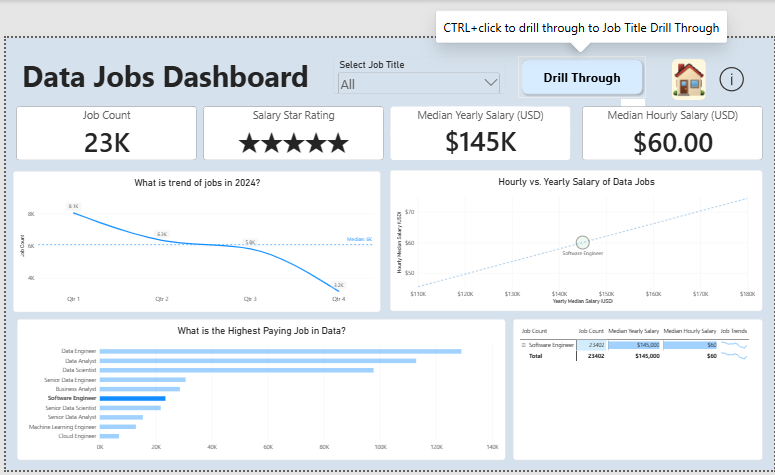

The dashboard page shown, as its layout file describes it:
{"tool":"powerbi","page":{"name":"Data Jobs Dashboard","canvas":[1920,1080],"ordinal":1},"visuals":[{"type":"cardVisual","fields":{"Data":["Median(job_postings_flat.salary_year_avg)"]},"box":[961.1,169.4,452.8,136.1],"z":0,"group":"g1"},{"type":"textbox","box":[25.6,46.1,751.1,107.7],"z":1000},{"type":"cardVisual","fields":{"Data":["Median(Job_Postings_Flat.salary_hour_avg)"]},"box":[1438.9,169.4,452.8,136.1],"z":1000,"group":"g1"},{"type":"slicer","fields":{"Values":["job_postings_flat.job_title_short"]},"box":[820.3,48.7,424.5,89.8],"z":2000},{"type":"cardVisual","fields":{"Data":["Job_Postings_Flat.Salary Star Ratio"]},"box":[491.7,169.4,452.8,136.1],"z":2000,"group":"g1"},{"type":"cardVisual","fields":{"Data":["CountNonNull(job_postings_flat.job_title_short)"]},"box":[25,169.4,452.8,136.1],"z":3000,"group":"g1"},{"type":"lineChart","title":"What is trend of jobs in 2024?","fields":{"Category":["Job_Postings_Flat.job_posted_date.Variation.Date Hierarchy.Quarter","Job_Postings_Flat.job_posted_date.Variation.Date Hierarchy.Month","Job_Postings_Flat.job_posted_date.Variation.Date Hierarchy.Day"],"Y":["CountNonNull(Job_Postings_Flat.job_title_short)"]},"box":[18.4,331.6,919.4,352.8],"z":3000},{"type":"scatterChart","title":"Hourly vs. Yearly Salary of Data Jobs","fields":{"Series":["Job_Postings_Flat.job_title_short"],"Size":["CountNonNull(Job_Postings_Flat.job_title_short)"],"X":["Median(Job_Postings_Flat.salary_year_avg)"],"Y":["Median(Job_Postings_Flat.salary_hour_avg)"]},"box":[961.1,330.6,930.6,352.8],"z":4000},{"type":"clusteredBarChart","title":"What is the Highest Paying Job in Data?","fields":{"Category":["Job_Postings_Flat.job_title_short"],"Y":["CountNonNull(Job_Postings_Flat.job_title_short)"]},"box":[26.1,702.9,1129,352.2],"z":5000},{"type":"pivotTable","fields":{"Rows":["Job_Postings_Flat.job_title_short","Job_Postings_Flat.job_posted_date.Variation.Date Hierarchy.Quarter","Job_Postings_Flat.job_posted_date.Variation.Date Hierarchy.Month","Job_Postings_Flat.job_posted_date.Variation.Date Hierarchy.Day"],"Values":["CountNonNull(Job_Postings_Flat.job_title_short)","Median(Job_Postings_Flat.salary_year_avg)","Median(Job_Postings_Flat.salary_hour_avg)","SparklineData(CountNonNull(Job_Postings_Flat.job_title_short)_[Job_Postings_Flat.job_posted_date.Variation.Date Hierarch"]},"box":[1169.6,702.9,723.2,352.2],"z":6000},{"type":"actionButton","box":[1768.8,53.8,89.3,87.2],"z":7000},{"type":"actionButton","box":[1279.1,46.1,320,104.4],"z":8000},{"type":"actionButton","box":[1666.2,51.3,84.6,102.5],"z":9000},{"type":"group","id":"g1","title":"Cards","box":[25,169.4,1866.7,136.1],"z":10000}]}

Visuals, with their boxes on the page's 1920x1080 design canvas (x1, y1, x2, y2). These are canvas units, not pixel positions in the 775x475 screenshot, which may show the page scaled, cropped or inside an application window:
cardVisual - Median(job_postings_flat.salary_year_avg): [961, 169, 1414, 306]
textbox: [26, 46, 777, 154]
cardVisual - Median(Job_Postings_Flat.salary_hour_avg): [1439, 169, 1892, 306]
slicer - job_postings_flat.job_title_short: [820, 49, 1245, 138]
cardVisual - Job_Postings_Flat.Salary Star Ratio: [492, 169, 944, 306]
cardVisual - CountNonNull(job_postings_flat.job_title_short): [25, 169, 478, 306]
"What is trend of jobs in 2024?" lineChart: [18, 332, 938, 684]
"Hourly vs. Yearly Salary of Data Jobs" scatterChart: [961, 331, 1892, 683]
"What is the Highest Paying Job in Data?" clusteredBarChart: [26, 703, 1155, 1055]
pivotTable - Job_Postings_Flat.job_title_short x Job_Postings_Flat.job_posted_date.Variation.Date Hierarchy.Quarter: [1170, 703, 1893, 1055]
actionButton: [1769, 54, 1858, 141]
actionButton: [1279, 46, 1599, 150]
actionButton: [1666, 51, 1751, 154]
"Cards" group: [25, 169, 1892, 306]
